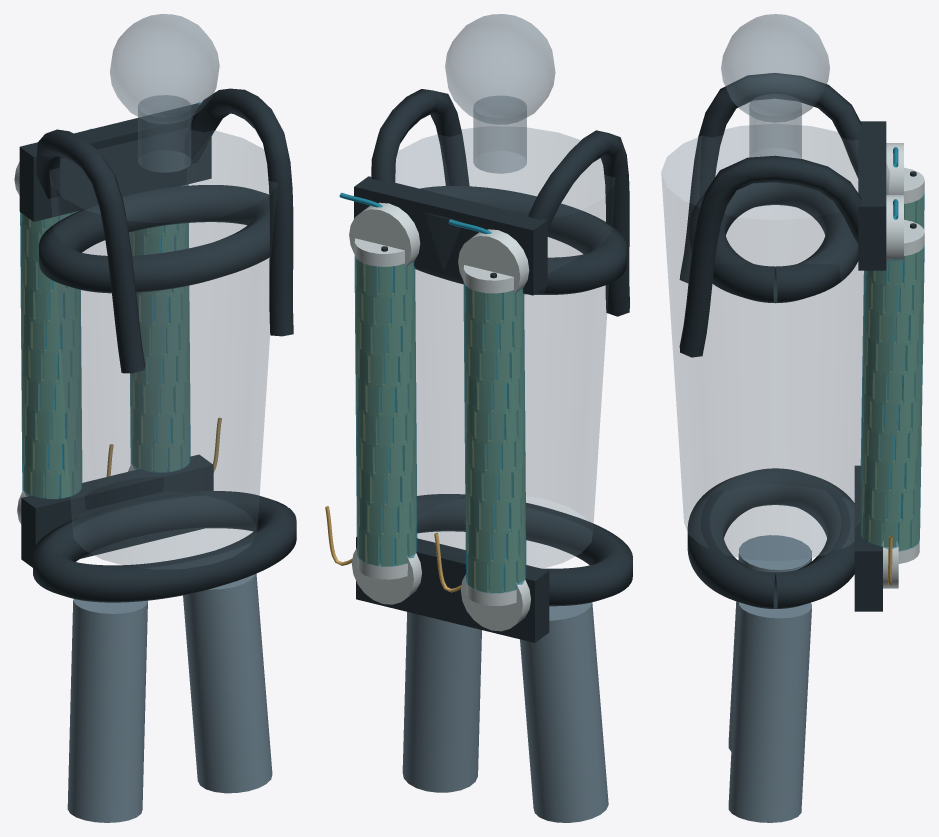
File: PVSAE-schematic.glb
The picture shows the model from 3 angles, left to right: view 1: azimuth 30°, elevation 25°; view 2: azimuth 150°, elevation 25°; view 3: azimuth 270°, elevation 25°; orthographic projection. The views are drawn at different scales.
Parts seen in each view (by area): view 1: 人体躯干示意, 腿部示意 (×2), 密封外膜 (×2), 骨盆承重腰带, 肩带 (×2), 胸带, 背部连接板, 头部示意, 下部连接板, 颈部示意; view 2: 人体躯干示意, 密封外膜 (×2), 腿部示意 (×2), 肩带 (×2), 头部示意, 法兰连接件 (×4), 骨盆承重腰带, 背部连接板, 胸带, 下部连接板, 颈部示意, 端盖 (×4) (+1 smaller); view 3: 人体躯干示意, 腿部示意 (×2), 密封外膜 (×2), 肩带 (×2), 骨盆承重腰带, 胸带, 头部示意, 背部连接板, 颈部示意, 下部连接板, 法兰连接件 (×3), 端盖 (×2).
Part boxes in pixels (<box>): 人体躯干示意: <box>50,130,277,569</box>; 腿部示意 (×2): <box>67,573,272,822</box>; 密封外膜 (×2): <box>20,184,190,499</box>; 骨盆承重腰带: <box>33,491,296,602</box>; 肩带 (×2): <box>36,88,293,373</box>; 胸带: <box>39,185,269,293</box>; 背部连接板: <box>19,103,211,221</box>; 头部示意: <box>110,14,219,123</box>; 下部连接板: <box>21,454,213,567</box>; 颈部示意: <box>138,95,191,172</box>; 人体躯干示意: <box>395,127,614,568</box>; 密封外膜 (×2): <box>354,255,526,593</box>; 腿部示意 (×2): <box>402,602,608,822</box>; 肩带 (×2): <box>371,89,629,316</box>; 头部示意: <box>445,14,555,124</box>; 法兰连接件 (×4): <box>349,202,530,631</box>; 骨盆承重腰带: <box>417,494,632,606</box>; 背部连接板: <box>354,176,547,295</box>; 胸带: <box>415,186,626,294</box>; 下部连接板: <box>356,537,549,642</box>; 颈部示意: <box>473,96,526,173</box>; 端盖 (×4): <box>354,238,516,605</box>; 人体躯干示意: <box>661,124,889,560</box>; 腿部示意 (×2): <box>728,535,811,822</box>; 密封外膜 (×2): <box>860,193,924,551</box>; 肩带 (×2): <box>679,73,861,357</box>; 骨盆承重腰带: <box>687,468,854,608</box>; 胸带: <box>689,182,858,303</box>; 头部示意: <box>721,14,829,122</box>; 背部连接板: <box>858,121,886,270</box>; 颈部示意: <box>749,94,801,158</box>; 下部连接板: <box>854,465,882,611</box>; 法兰连接件 (×3): <box>881,143,903,588</box>; 端盖 (×2): <box>904,167,924,255</box>.
Size of the model in its own units: 1.6 by 4.78 by 1.5.
